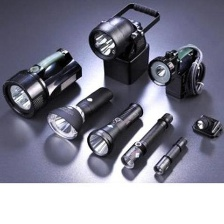light_bulb: (82, 1, 162, 91), (0, 45, 84, 121), (145, 40, 210, 105), (45, 83, 117, 140), (86, 100, 145, 158), (120, 110, 175, 169), (149, 136, 187, 179), (189, 112, 224, 140)
